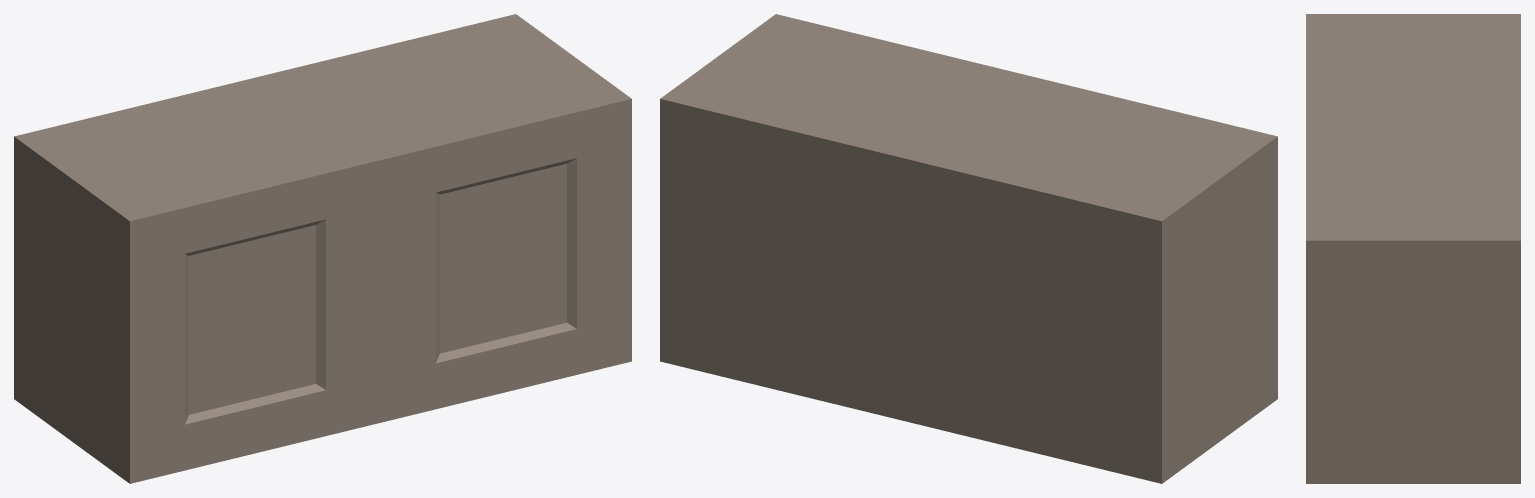
Rendered from 12-15-High-12-Deep_std_001_W30in_2D.glb.
3 renders of one model, left to right at view 1: azimuth 30°, elevation 25°; view 2: azimuth 150°, elevation 25°; view 3: azimuth 270°, elevation 25°, orthographic. The views are drawn at different scales.
Parts seen in each view (by area): view 1: 12-15-High-12-Deep.std.001_W30in_2D; view 2: 12-15-High-12-Deep.std.001_W30in_2D; view 3: 12-15-High-12-Deep.std.001_W30in_2D.
Part boxes in pixels (x1,y1,x2,y2): 12-15-High-12-Deep.std.001_W30in_2D: [14, 14, 631, 483]; 12-15-High-12-Deep.std.001_W30in_2D: [660, 14, 1277, 483]; 12-15-High-12-Deep.std.001_W30in_2D: [1306, 14, 1520, 483].
Bounding box in the file's own units: 0.762 × 0.381 × 0.3048.
